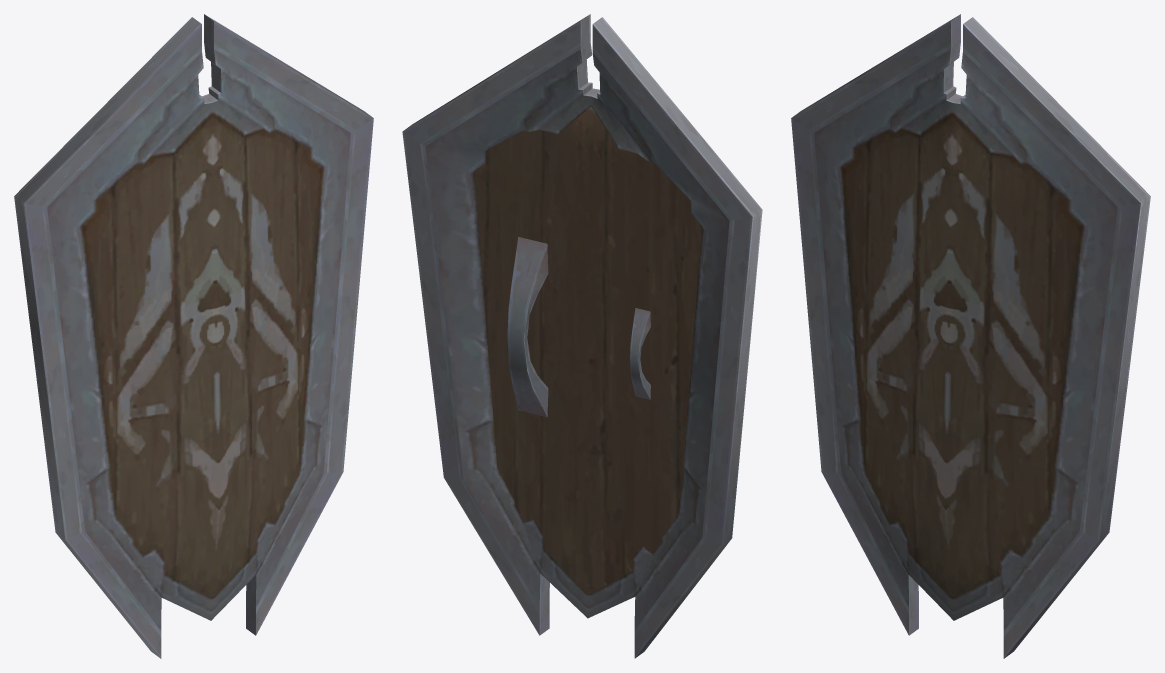
File: Homeworld_Interior_Xm_Walldecoration_Prop_Ybtdunpai_01_Lod0.fbx
3 views of the same model, side by side, from view 1: azimuth 30°, elevation 25°; view 2: azimuth 150°, elevation 25°; view 3: azimuth 330°, elevation 25° (orthographic).
Parts seen in each view (by area): view 1: Area_Xm_Prop_Common_Ybtdunpai_02_Lod0; view 2: Area_Xm_Prop_Common_Ybtdunpai_02_Lod0; view 3: Area_Xm_Prop_Common_Ybtdunpai_02_Lod0.
Part boxes in pixels (left/top/right/bottom): Area_Xm_Prop_Common_Ybtdunpai_02_Lod0: left=14, top=14, right=373, bottom=658; Area_Xm_Prop_Common_Ybtdunpai_02_Lod0: left=402, top=14, right=762, bottom=658; Area_Xm_Prop_Common_Ybtdunpai_02_Lod0: left=791, top=14, right=1150, bottom=658.
Size of the model in its own units: 1.01 by 1.73 by 0.1858.
